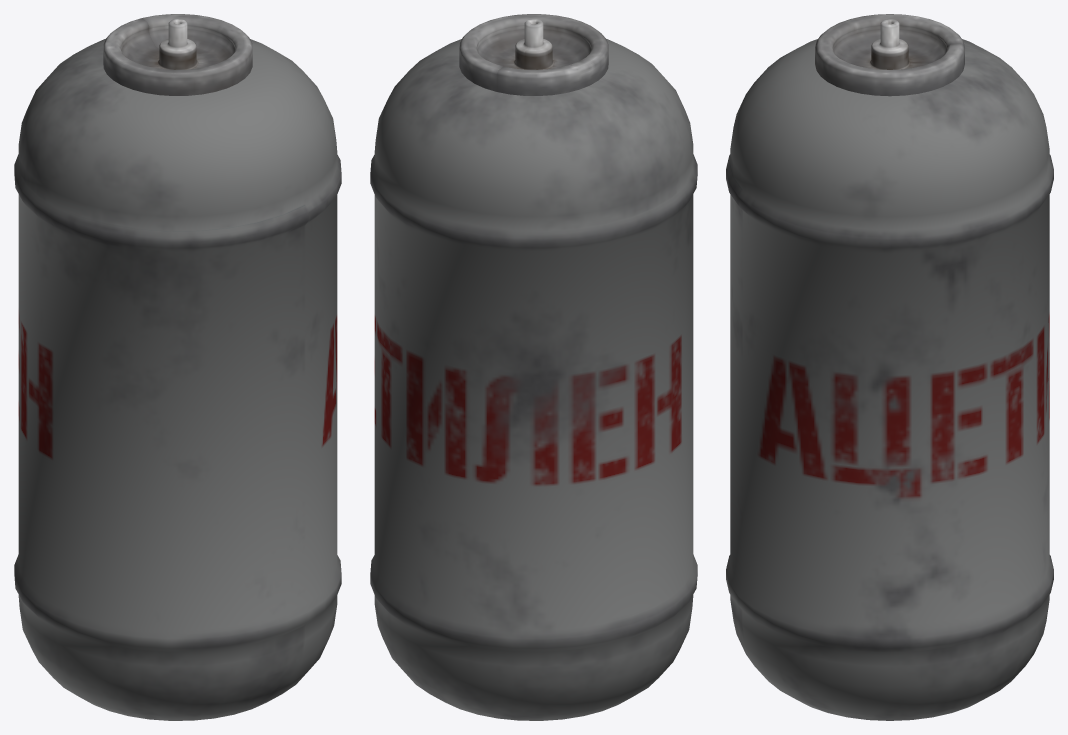
Rendered from Wrench_Mag.fbx.
3 views of the same model, side by side, from view 1: azimuth 30°, elevation 25°; view 2: azimuth 150°, elevation 25°; view 3: azimuth 270°, elevation 25° (orthographic).
Visible parts, largest first — view 1: gas_tank; view 2: gas_tank; view 3: gas_tank.
Boxes of the visible parts, x1,y1,x2,y2 form: gas_tank: [14, 14, 341, 720]; gas_tank: [370, 14, 697, 720]; gas_tank: [726, 14, 1053, 720].
Bounding box in the file's own units: 0.0349 × 0.0778 × 0.0349.
